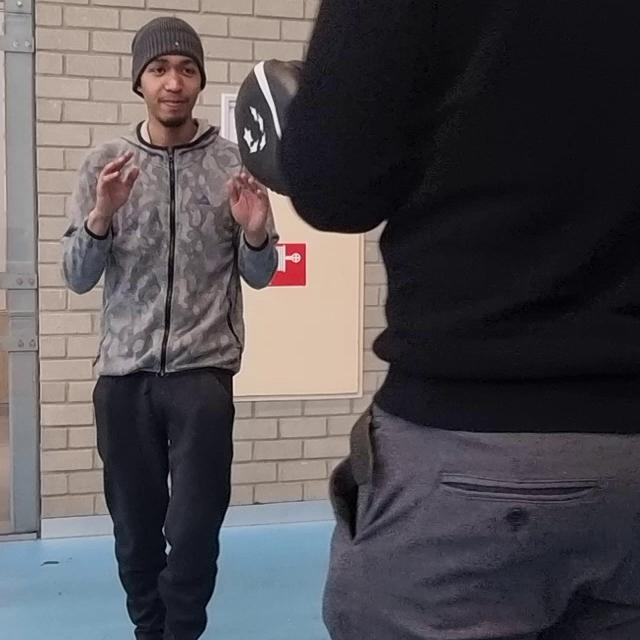paddle: (234, 61, 306, 199)
